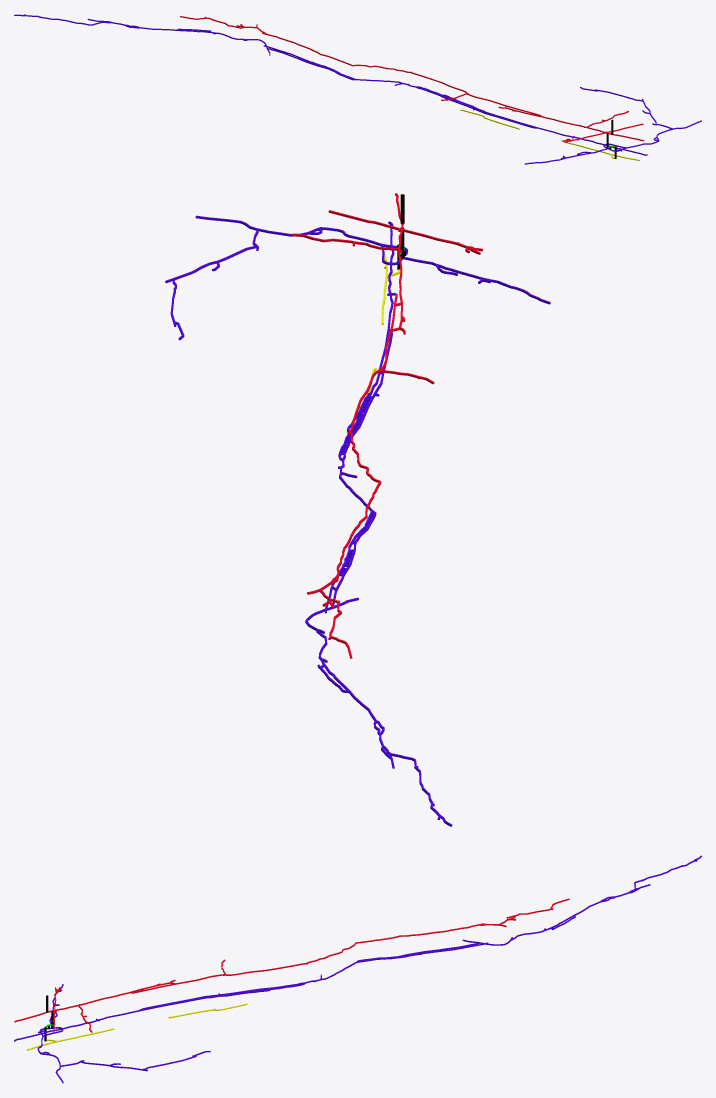
Rendered from ParcLeadMine.glb.
3 renders of one model, top to bottom at view 1: azimuth 30°, elevation 25°; view 2: azimuth 150°, elevation 25°; view 3: azimuth 270°, elevation 25°, orthographic. The views are drawn at different scales.
Size of the model in its own units: 1404 by 128 by 1798.
